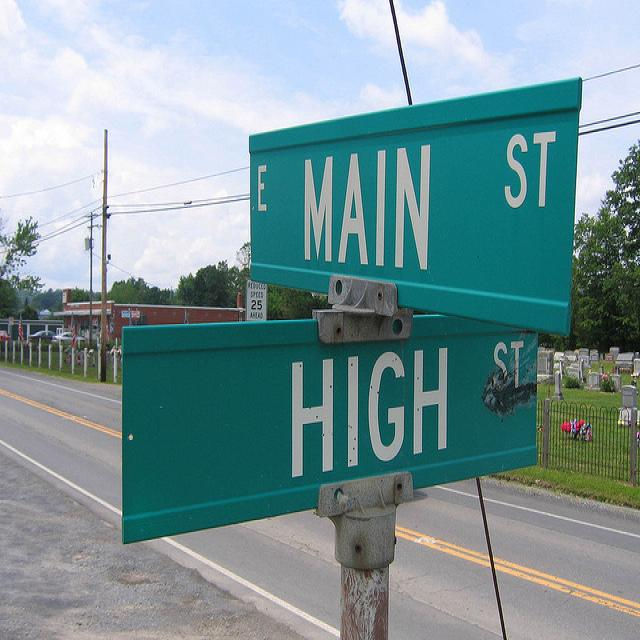Vehicle: (52, 331, 84, 343), (29, 331, 56, 342), (0, 330, 12, 342)
